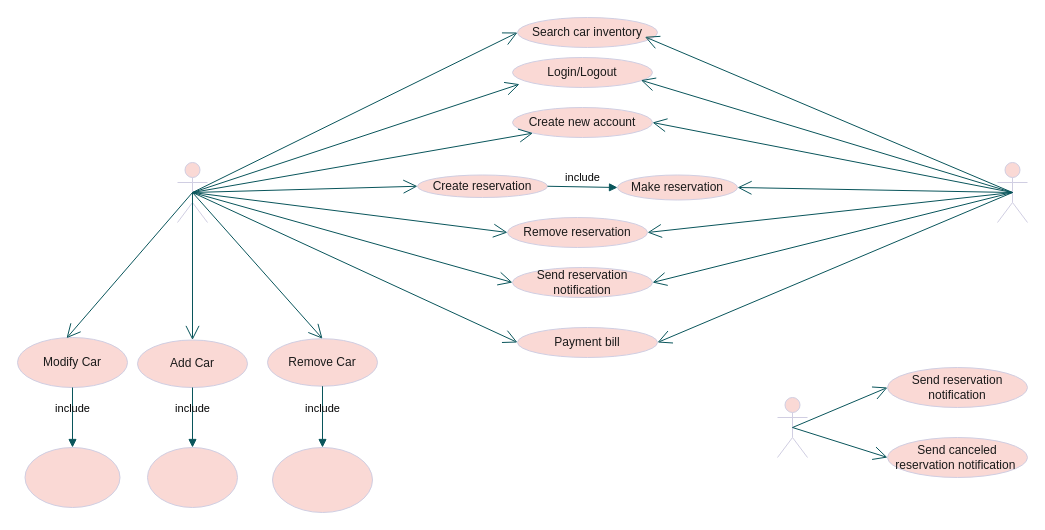
This 1045x530 diagram has some shape labels left out. Here are the shapes that lost their labels. From the top down, the box of each, then its label:
(176, 162, 208, 222): Admin
(996, 162, 1028, 222): Client
(776, 396, 808, 458): System
(24, 446, 120, 508): Modify small, medium, SUV, luxury
(146, 446, 238, 508): Add small, medium, SUV, luxury
(272, 446, 372, 512): Remove small, medium, SUV, luxury
